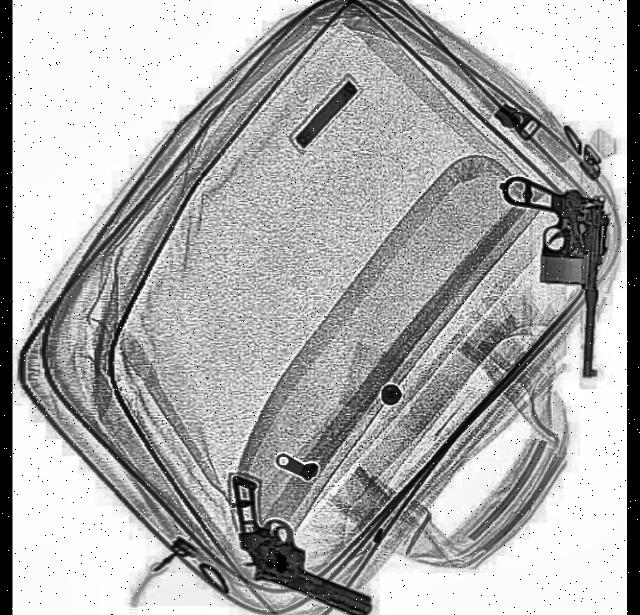Gun: (208, 473, 390, 615), (492, 172, 614, 378)
